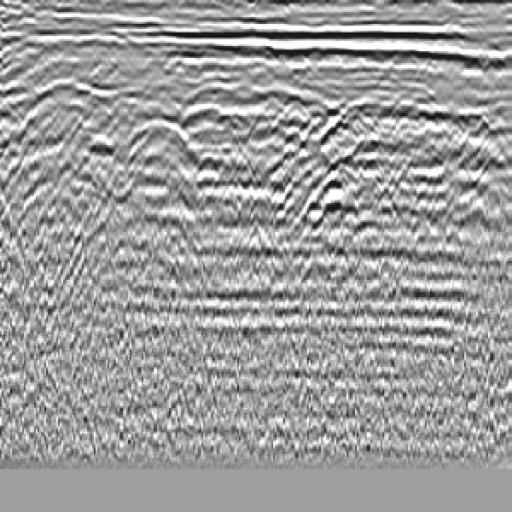metalic: (74, 70, 230, 283)
